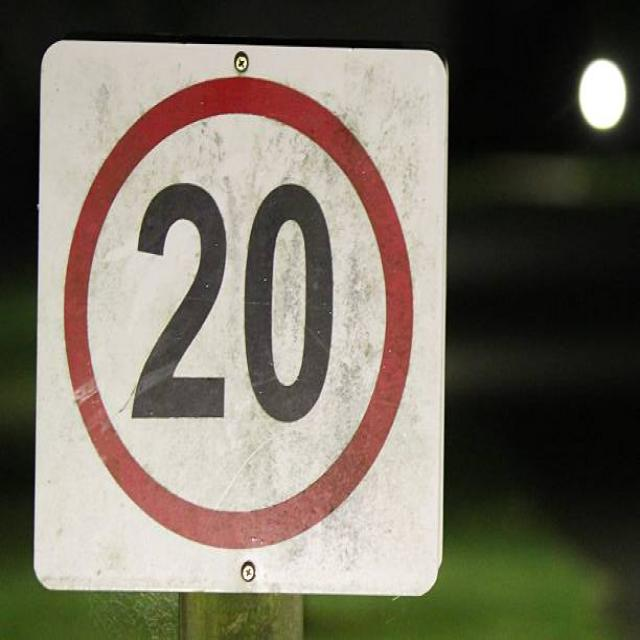speed_limit_20: (51, 67, 417, 568)
